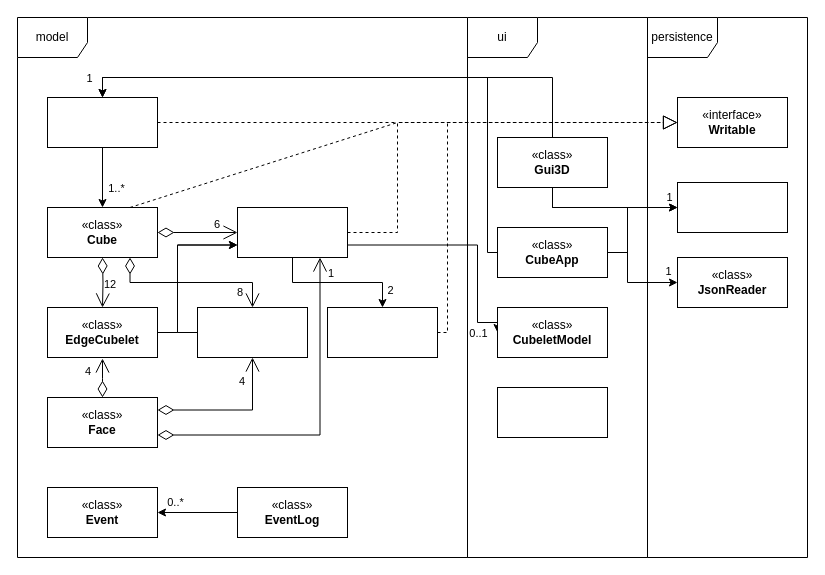
This 825x575 diagram has some shape labels left out. The shapes that lost their labels are listed below. From the top down, each one's centre as x and y in pixels, then its label:
pixel 102 122: «class» CubeHandler
pixel 732 207: «class» JsonWriter
pixel 292 232: «class» Cubelet
pixel 252 332: «class» CornerCubelet
pixel 382 332: «class» Position
pixel 552 412: «class» Main
